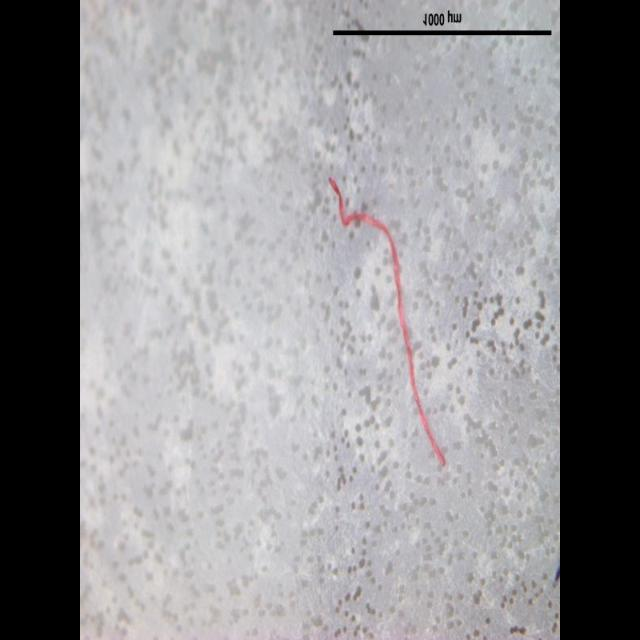Fibre: (328, 176, 447, 469)
